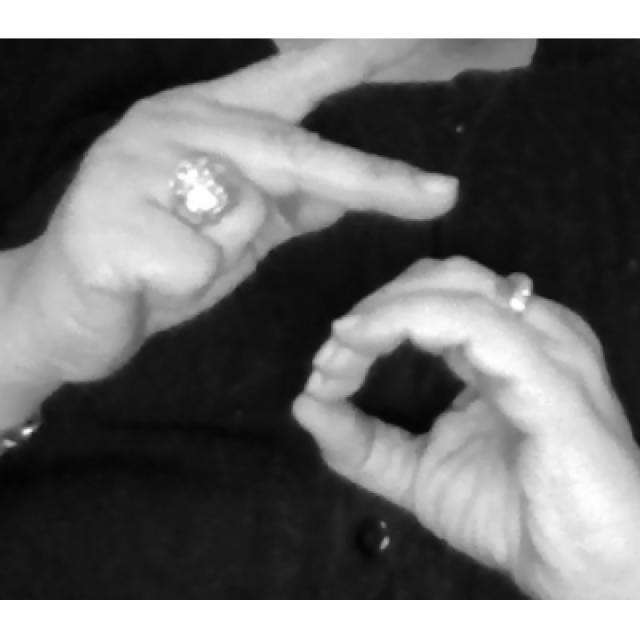O--: (46, 38, 638, 598)
